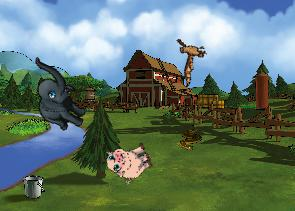eagle: (163, 29, 217, 87)
elephant: (13, 56, 100, 136)
pig: (102, 135, 156, 187)
